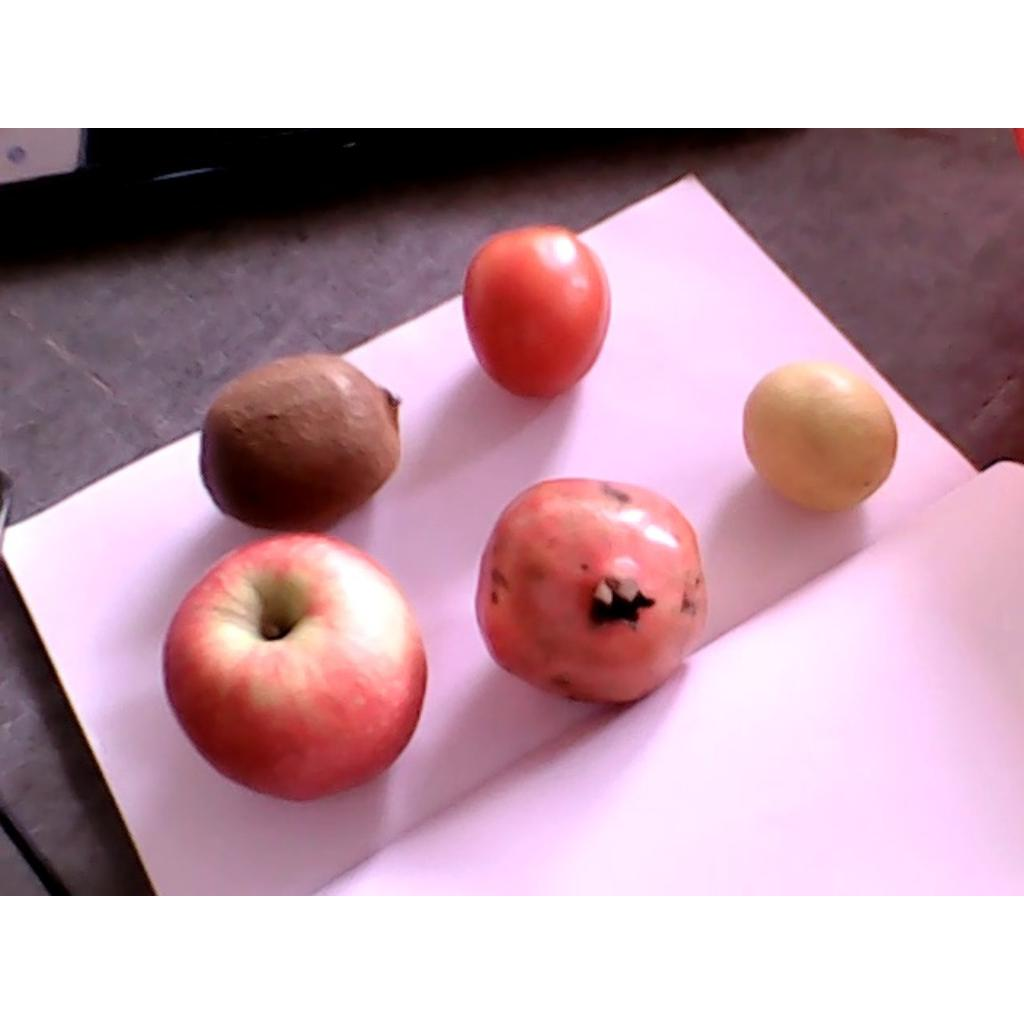apple: (164, 531, 427, 802)
kiwi: (200, 353, 400, 532)
lemon: (743, 364, 898, 509)
pomegranate: (476, 481, 712, 702)
tomato: (463, 223, 610, 397)
